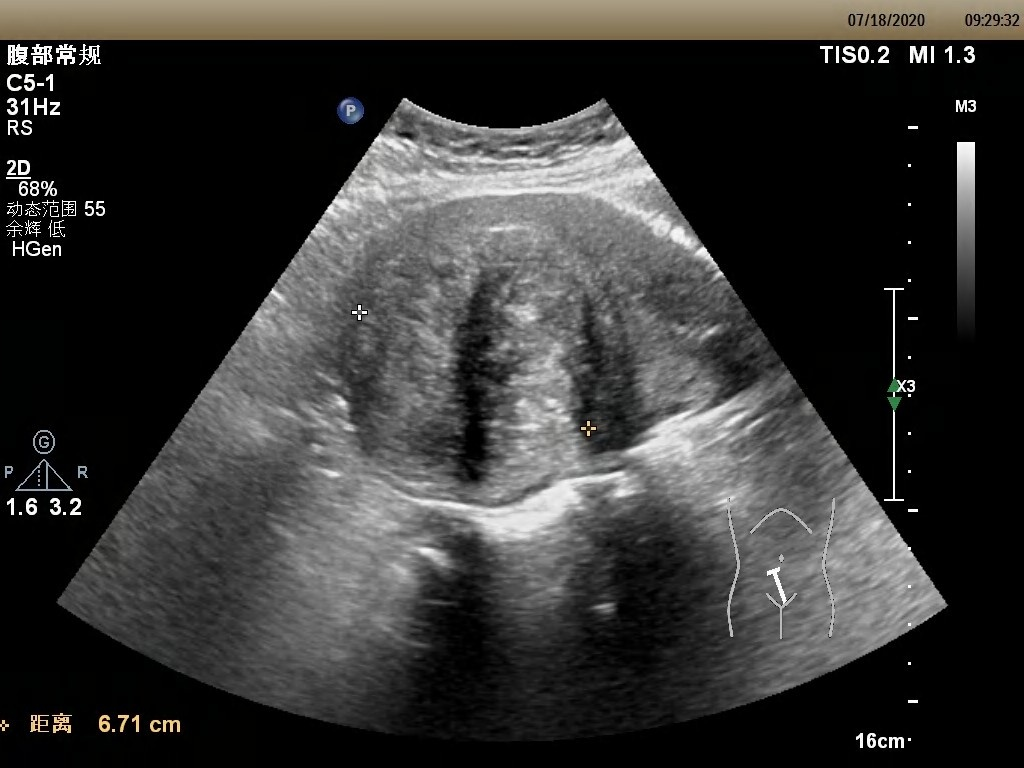肌瘤: (358, 220, 591, 508)
